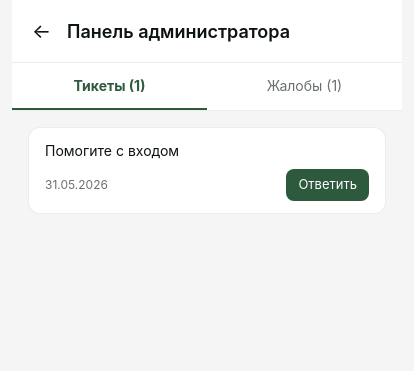
Scenario: AdminScreen › форма ответа открывается по клику на тикет
The width and height of the screenshot is (414, 371).
Check: the text "Помогите с входом" is shown, box left=45, top=142, right=179, bottom=159
Click the button "Ответить".
click(328, 185)  # box left=286, top=169, right=369, bottom=200
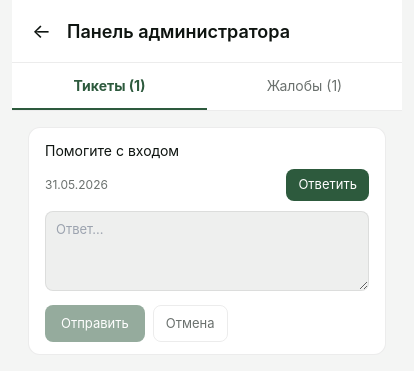
Check: the element with test id "reply-form" is shown, box left=45, top=210, right=369, bottom=342
